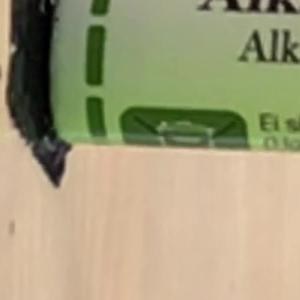keyword: (229, 19, 289, 73)
